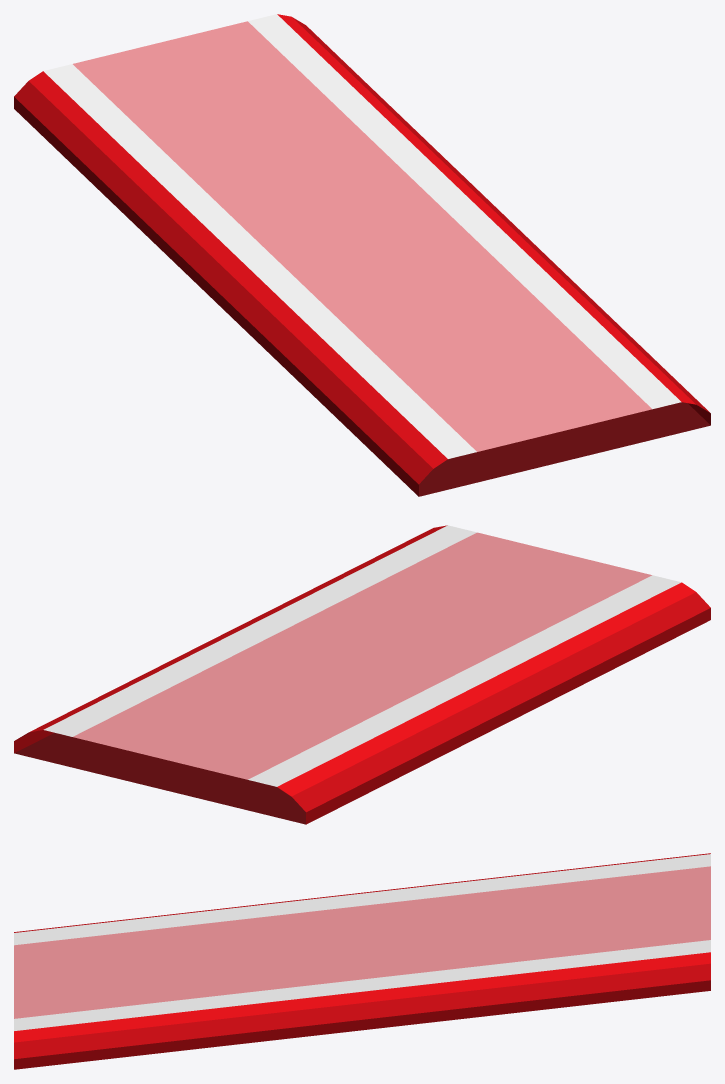
The model's file is incLong1.fbx.
The picture shows the model from 3 angles, top to bottom: view 1: azimuth 30°, elevation 25°; view 2: azimuth 150°, elevation 25°; view 3: azimuth 270°, elevation 25°; orthographic projection. The views are drawn at different scales.
Visible parts, largest first — view 1: InclineLong1; view 2: InclineLong1; view 3: InclineLong1.
Part boxes in pixels (left/top/right/bottom): InclineLong1: left=14, top=14, right=710, bottom=496; InclineLong1: left=14, top=525, right=710, bottom=824; InclineLong1: left=14, top=853, right=710, bottom=1069.
Size of the model in its own units: 10 by 4 by 24.
